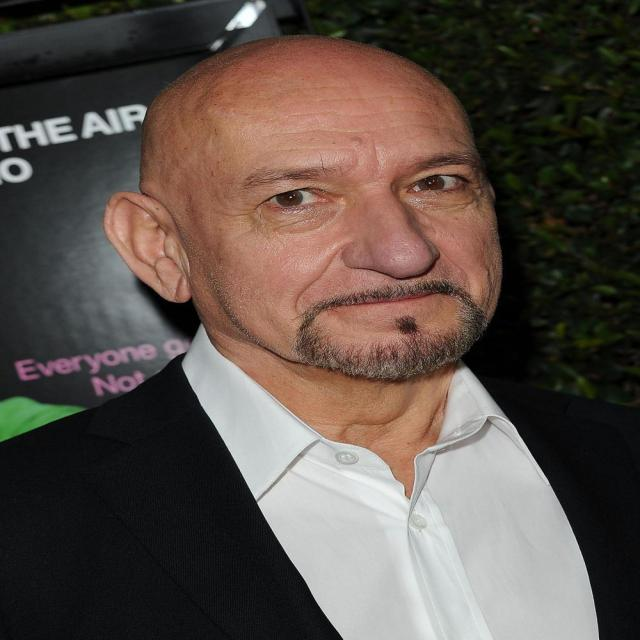no-earmuff: (77, 169, 224, 318)
